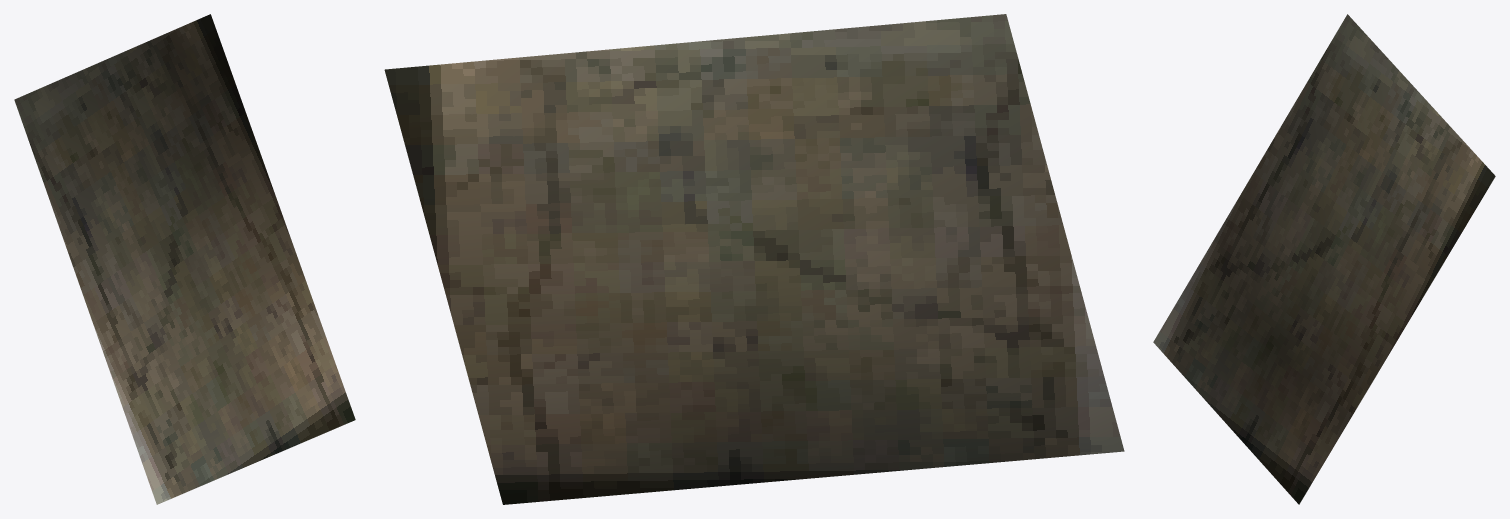
The model's file is CH09_SMAUG_PLAYSURFACE_LAIR143.fbx.
3 renders of one model, left to right at view 1: azimuth 30°, elevation 25°; view 2: azimuth 150°, elevation 25°; view 3: azimuth 270°, elevation 25°, orthographic. The views are drawn at different scales.
Visible parts, largest first — view 1: CH09_SMAUG_PLAYSURFACE_LAIR143; view 2: CH09_SMAUG_PLAYSURFACE_LAIR143; view 3: CH09_SMAUG_PLAYSURFACE_LAIR143.
Boxes of the visible parts, bbox=[...] form: CH09_SMAUG_PLAYSURFACE_LAIR143: bbox=[14, 14, 355, 504]; CH09_SMAUG_PLAYSURFACE_LAIR143: bbox=[384, 14, 1124, 504]; CH09_SMAUG_PLAYSURFACE_LAIR143: bbox=[1153, 14, 1495, 504].
Size of the model in its own units: 5058 by 5796 by 5156.
1 material, 1 textured.
